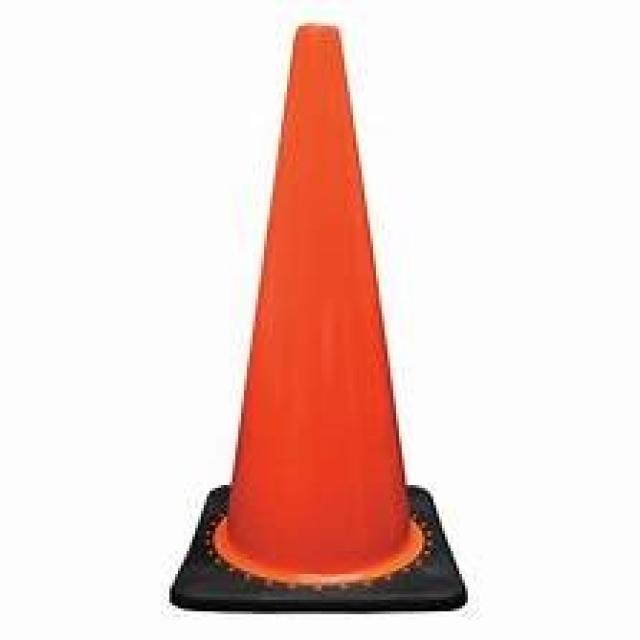traffic cone: (162, 19, 479, 627)
